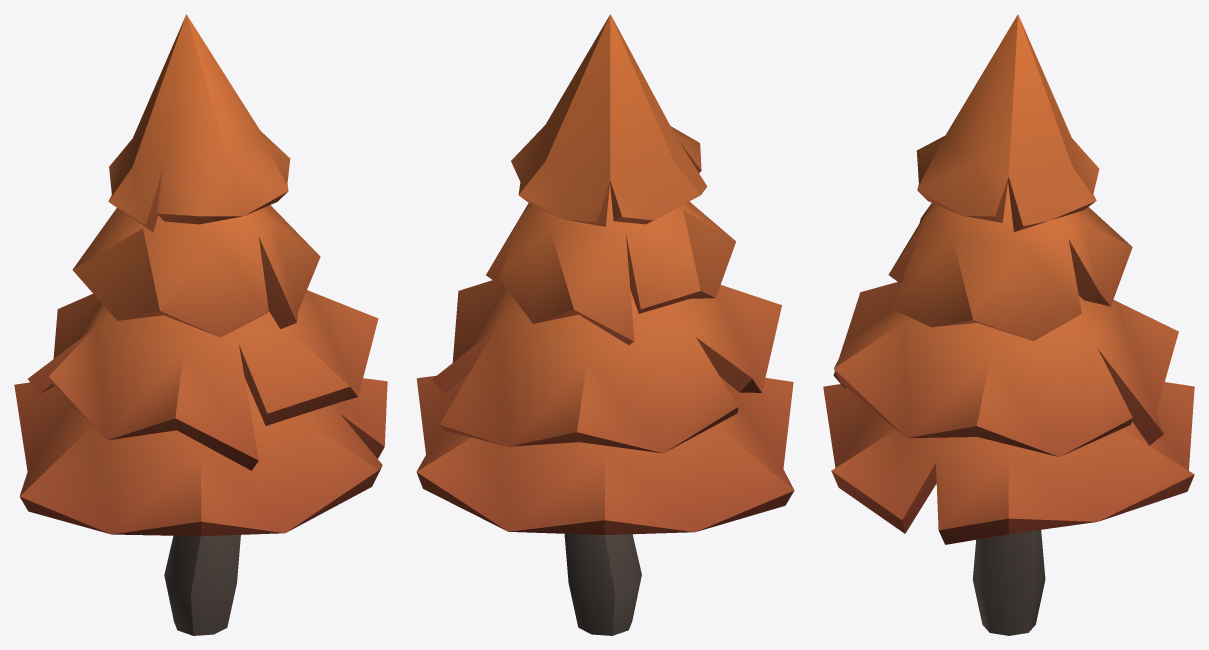
The model's file is tree_pine_orange_large.glb.
3 views of the same model, side by side, from view 1: azimuth 30°, elevation 25°; view 2: azimuth 150°, elevation 25°; view 3: azimuth 270°, elevation 25° (orthographic).
Visible parts, largest first — view 1: tree_pine_orange_large; view 2: tree_pine_orange_large; view 3: tree_pine_orange_large.
Boxes of the visible parts, x1,y1,x2,y2 form: tree_pine_orange_large: (14, 14, 387, 635); tree_pine_orange_large: (416, 14, 794, 635); tree_pine_orange_large: (823, 14, 1194, 635).
Bounding box in the file's own units: 4.76 × 7.48 × 4.15.
1 material, 1 textured.
